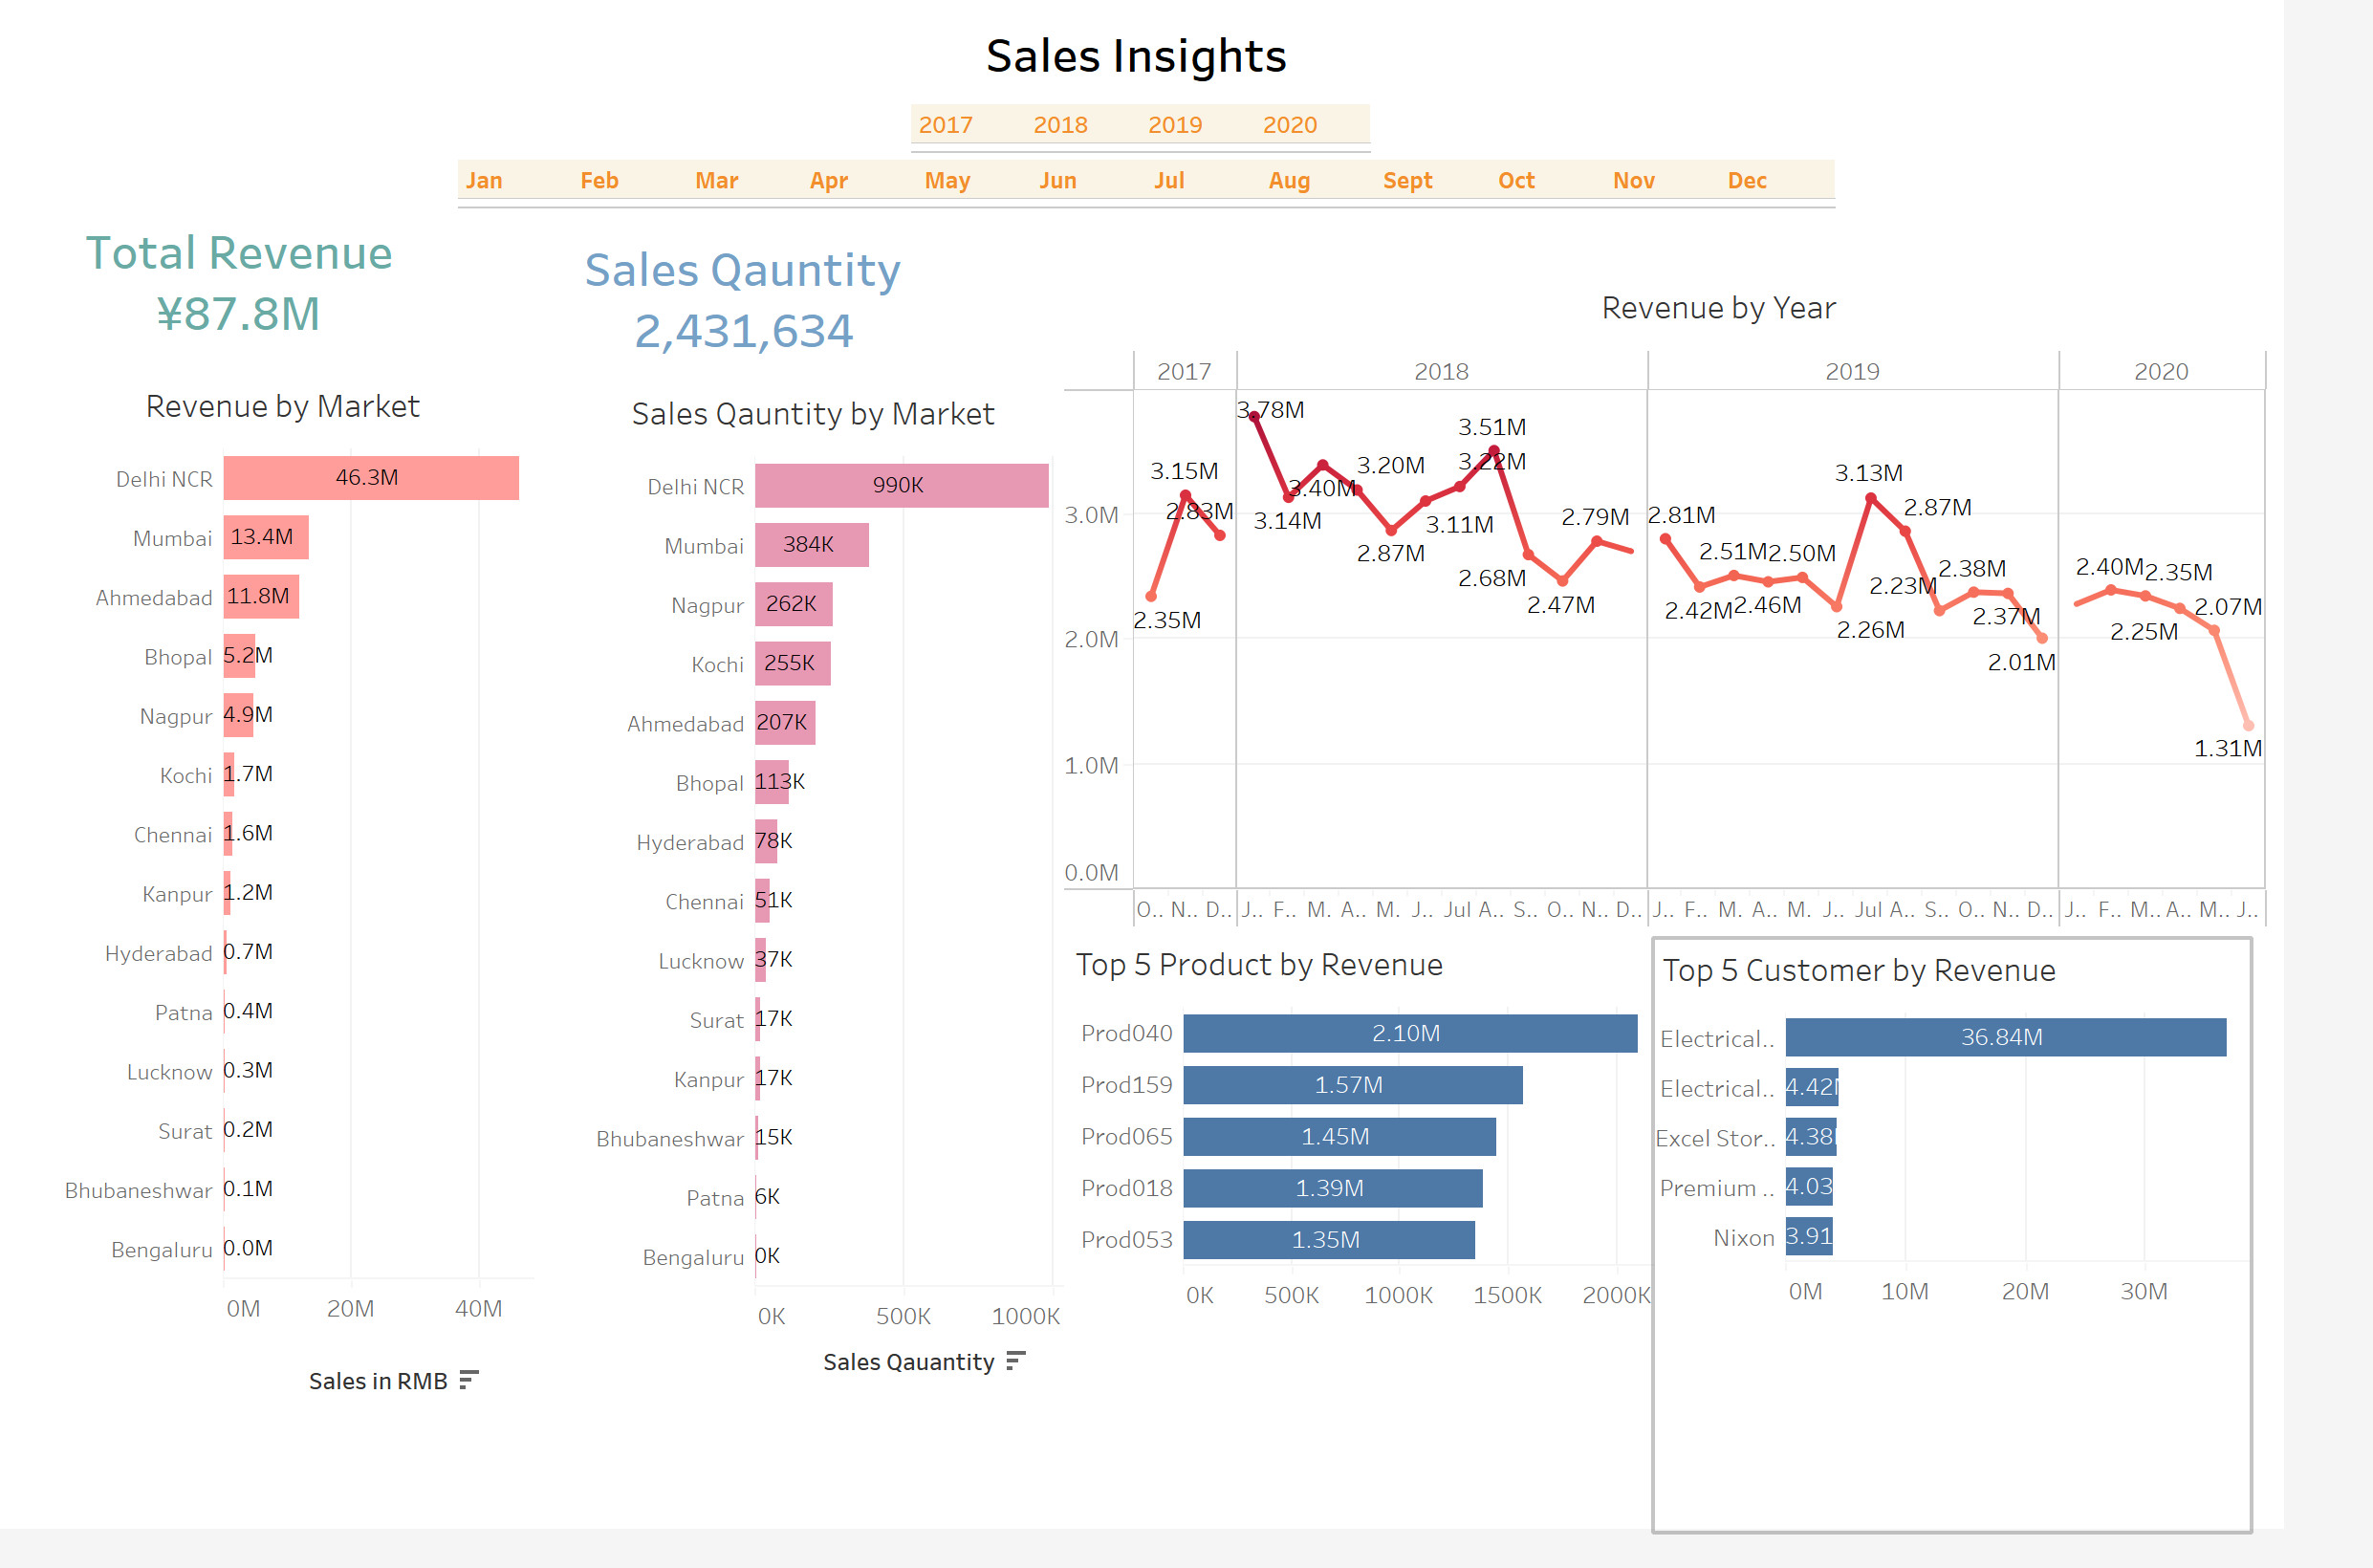

What the dashboard file says about the page in this screenshot:
{"tool":"tableau","page":{"name":"Original Dashboard","canvas":[1200,800],"ordinal":1},"visuals":[{"type":"title","box":[8,8,1184,41]},{"type":"worksheet","title":"Year","mark":"Automatic","cols":["date"],"box":[482,55,277,36]},{"type":"worksheet","title":"Month","mark":"Automatic","cols":["date"],"box":[245,84,735,36]},{"type":"worksheet","title":"Total Revenue","mark":"Automatic","box":[40.8,114.7,242.4,90.7]},{"type":"worksheet","title":"Quantity","mark":"Automatic","box":[304.8,124,236.4,98.7]},{"type":"worksheet","title":"Revenue by Year","mark":"Automatic","rows":["Calculation_934778427132579840"],"cols":["order_date"],"box":[562,140.6,629,345.1]},{"type":"worksheet","title":"Revenue by Market","mark":"Automatic","rows":["markets_name"],"cols":["Calculation_934778427132579840"],"box":[22,196.6,263,597.7]},{"type":"worksheet","title":"Sales Quantity by Markets","mark":"Automatic","rows":["markets_name"],"cols":["sales_qty"],"box":[300,201.1,262,594.3]},{"type":"worksheet","title":"Top 5 Product by Revenue","mark":"Automatic","rows":["product_code (products)"],"cols":["Calculation_934778427132579840"],"box":[564,489.3,309.6,312]},{"type":"worksheet","title":"Top 5 Customer by Revenue","mark":"Automatic","rows":["custmer_name"],"cols":["Calculation_934778427132579840"],"box":[871.2,492,310.8,310.7]}]}

Visuals, with their boxes in screenshot pixels (x1, y1, x2, y2), scaled from the page's 1200x800 canvas onto the 2373x1568 screenshot:
title: [16, 15, 2357, 96]
"Year" worksheet: [953, 108, 1501, 179]
"Month" worksheet: [485, 164, 1938, 235]
"Total Revenue" worksheet: [80, 225, 560, 403]
"Quantity" worksheet: [602, 243, 1070, 437]
"Revenue by Year" worksheet: [1111, 275, 2355, 952]
"Revenue by Market" worksheet: [44, 385, 563, 1557]
"Sales Quantity by Markets" worksheet: [593, 394, 1111, 1559]
"Top 5 Product by Revenue" worksheet: [1116, 959, 1728, 1567]
"Top 5 Customer by Revenue" worksheet: [1723, 965, 2338, 1567]
